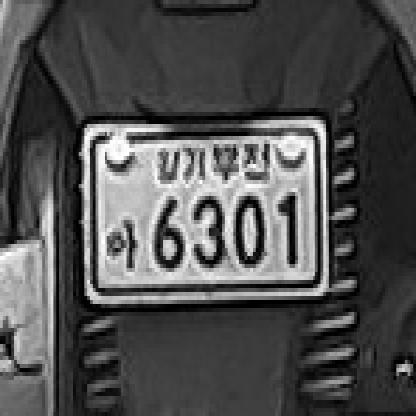bnum: (75, 108, 336, 312)
